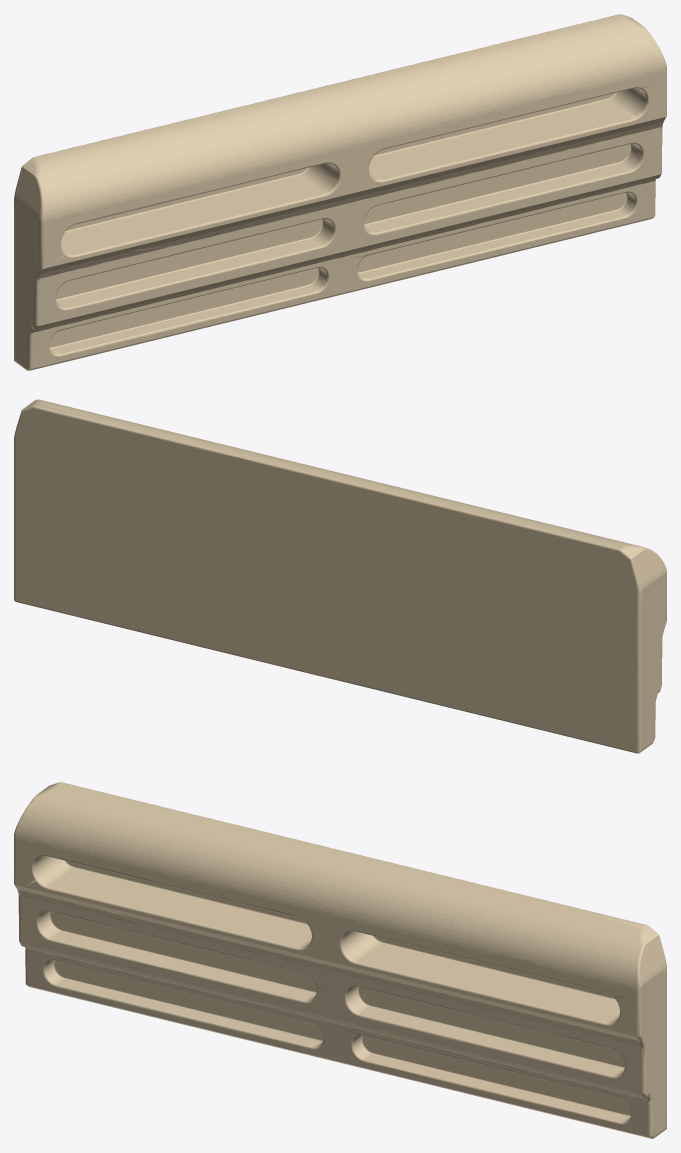
The model's file is escape-unlimited-board.glb.
The picture shows the model from 3 angles, top to bottom: view 1: azimuth 30°, elevation 25°; view 2: azimuth 150°, elevation 25°; view 3: azimuth 330°, elevation 25°; orthographic projection.
Parts seen in each view (by area): view 1: body, hold-top-roll, hold-upper-left, hold-upper-right, hold-middle-right, hold-middle-left, hold-lower-left, hold-lower-right; view 2: body, hold-top-roll; view 3: body, hold-top-roll, hold-upper-left, hold-upper-right, hold-middle-right, hold-middle-left, hold-lower-left, hold-lower-right.
Part boxes in pixels (x1,y1,x2,y2): body: [14, 66, 666, 370]; hold-top-roll: [14, 14, 666, 218]; hold-upper-left: [60, 162, 341, 257]; hold-upper-right: [368, 86, 649, 182]; hold-middle-right: [363, 137, 651, 235]; hold-middle-left: [55, 217, 336, 310]; hold-lower-left: [46, 266, 329, 361]; hold-lower-right: [345, 191, 638, 281]; body: [14, 428, 666, 753]; hold-top-roll: [14, 399, 666, 594]; body: [14, 834, 666, 1138]; hold-top-roll: [14, 782, 666, 986]; hold-upper-left: [31, 855, 312, 950]; hold-upper-right: [339, 930, 621, 1025]; hold-middle-right: [344, 985, 634, 1078]; hold-middle-left: [36, 910, 317, 1003]; hold-lower-left: [40, 959, 324, 1049]; hold-lower-right: [342, 1029, 632, 1124].
Size of the model in its own units: 0.6022 by 0.1831 by 0.0476.
